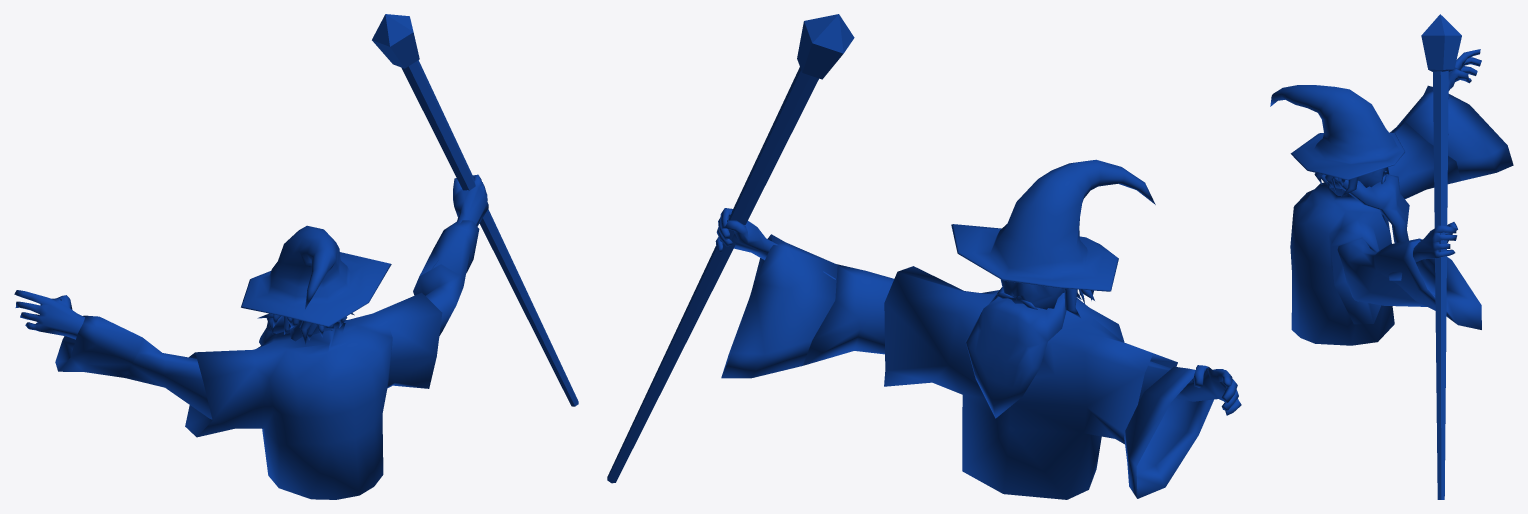
The model's file is top_000049.obj.
3 views of the same model, side by side, from view 1: azimuth 30°, elevation 25°; view 2: azimuth 150°, elevation 25°; view 3: azimuth 270°, elevation 25° (orthographic). The views are drawn at different scales.
Parts seen in each view (by area): view 1: Wizard.002_Plane.002; view 2: Wizard.002_Plane.002; view 3: Wizard.002_Plane.002.
Part boxes in pixels (x1,y1,x2,y2): Wizard.002_Plane.002: (14,14,578,499); Wizard.002_Plane.002: (607,14,1241,499); Wizard.002_Plane.002: (1270,14,1513,499).
Bounding box in the file's own units: 2.09 × 1.61 × 0.8814.
